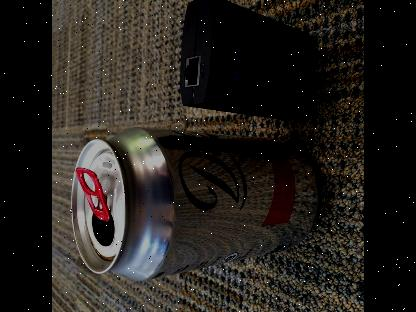Can: (68, 124, 328, 278)
